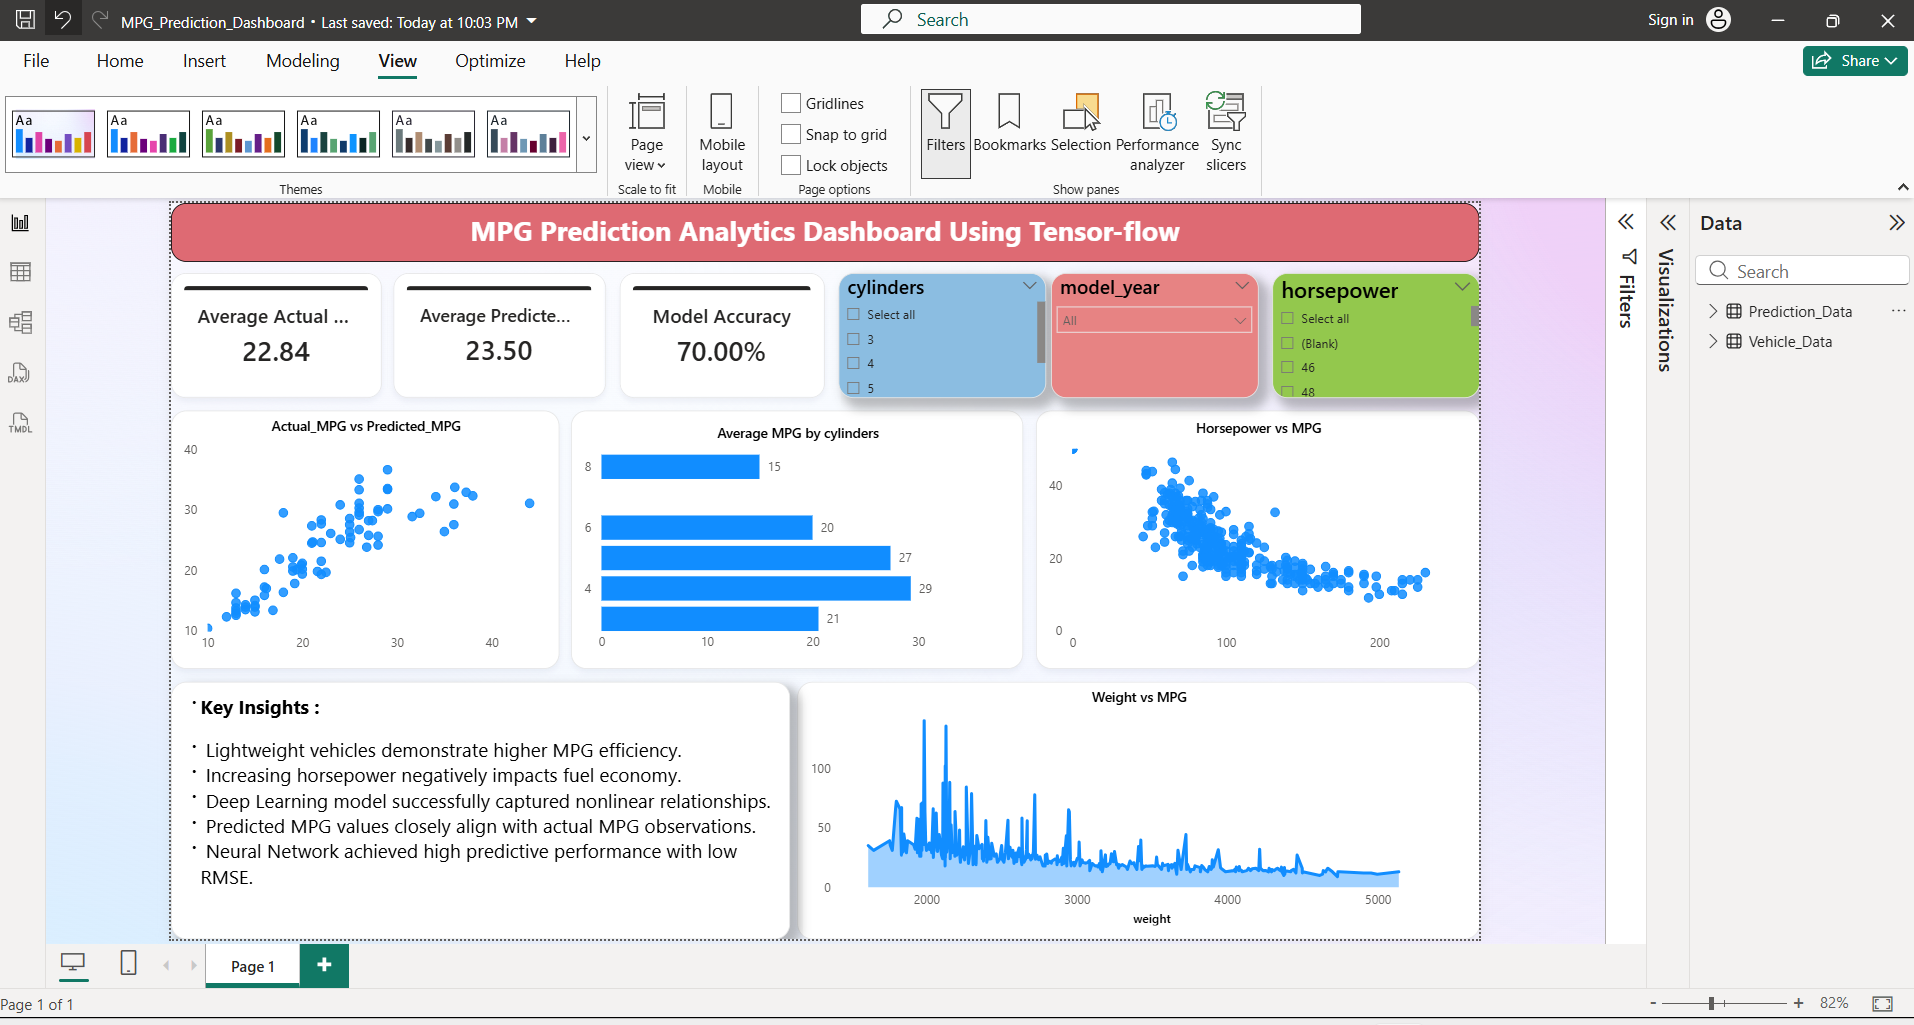

The page's visual inventory and layout, read from the dashboard file:
{"tool":"powerbi","page":{"name":"Page 1","canvas":[1280,720],"ordinal":0},"visuals":[{"type":"textbox","box":[0,0,1280.3,57.5],"z":0},{"type":"cardVisual","fields":{"Data":["Prediction_Data.Average Actual MPG"]},"box":[0,68.5,206.7,122.3],"z":1000},{"type":"cardVisual","fields":{"Data":["Prediction_Data.Average Predicted MPG"]},"box":[217.7,68.5,207.9,122.3],"z":2000},{"type":"cardVisual","fields":{"Data":["Prediction_Data.Model Accuracy"]},"box":[439,68.5,200.5,122.3],"z":3000},{"type":"scatterChart","title":"Actual_MPG vs Predicted_MPG","fields":{"X":["Prediction_Data.Actual_MPG"],"Y":["Prediction_Data.Predicted_MPG"]},"box":[0,203,380.3,253.1],"z":4000},{"type":"scatterChart","title":"Horsepower vs MPG","fields":{"X":["Vehicle_Data.horsepower"],"Y":["Vehicle_Data.mpg"]},"box":[846.2,203,434.1,253.1],"z":5000},{"type":"areaChart","title":"Weight vs MPG","fields":{"Category":["Vehicle_Data.weight"],"Y":["Sum(Vehicle_Data.mpg)"]},"box":[612.6,468.3,667.7,251.9],"z":6000},{"type":"textbox","box":[0,468.3,605.3,251.9],"z":7000},{"type":"clusteredBarChart","title":"Average MPG by cylinders","fields":{"Y":["Avg(Vehicle_Data.mpg)"],"Category":["Vehicle_Data.cylinders"]},"box":[391.3,203,442.7,253.1],"z":8000},{"type":"slicer","fields":{"Values":["Vehicle_Data.cylinders"]},"box":[653,68.5,203,122.3],"z":9000},{"type":"slicer","fields":{"Values":["Vehicle_Data.model_year"]},"box":[860.9,68.5,203,122.3],"z":10000},{"type":"slicer","fields":{"Values":["Vehicle_Data.horsepower"]},"box":[1077.3,68.5,203,122.3],"z":11000}]}

Visuals, with their boxes on the page's 1280x720 design canvas (x1, y1, x2, y2). These are canvas units, not pixel positions in the 1914x1025 screenshot, which may show the page scaled, cropped or inside an application window:
textbox: detection(0, 0, 1280, 58)
cardVisual - Prediction_Data.Average Actual MPG: detection(0, 68, 207, 191)
cardVisual - Prediction_Data.Average Predicted MPG: detection(218, 68, 426, 191)
cardVisual - Prediction_Data.Model Accuracy: detection(439, 68, 640, 191)
"Actual_MPG vs Predicted_MPG" scatterChart: detection(0, 203, 380, 456)
"Horsepower vs MPG" scatterChart: detection(846, 203, 1280, 456)
"Weight vs MPG" areaChart: detection(613, 468, 1280, 720)
textbox: detection(0, 468, 605, 720)
"Average MPG by cylinders" clusteredBarChart: detection(391, 203, 834, 456)
slicer - Vehicle_Data.cylinders: detection(653, 68, 856, 191)
slicer - Vehicle_Data.model_year: detection(861, 68, 1064, 191)
slicer - Vehicle_Data.horsepower: detection(1077, 68, 1280, 191)
